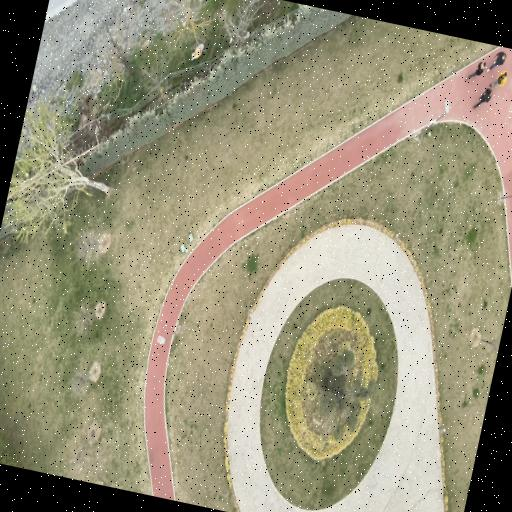person: (487, 52, 506, 72), (474, 88, 492, 109), (466, 62, 486, 79), (490, 72, 507, 87)
